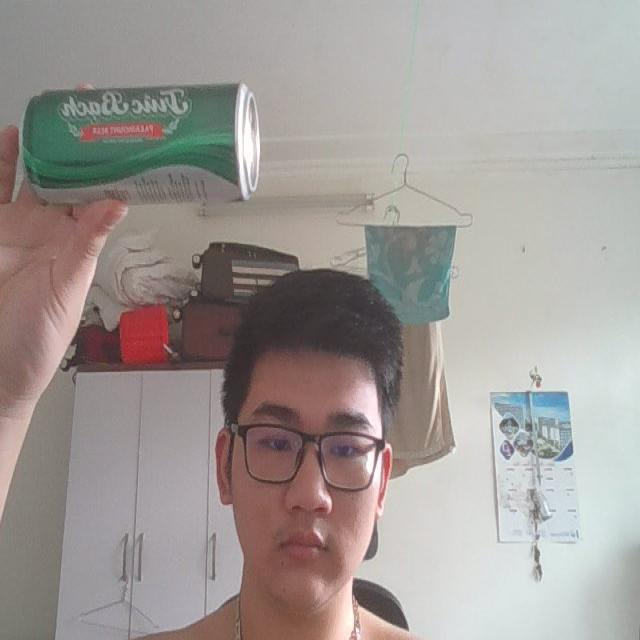Bia-Truc-Bach: (22, 78, 260, 204)
